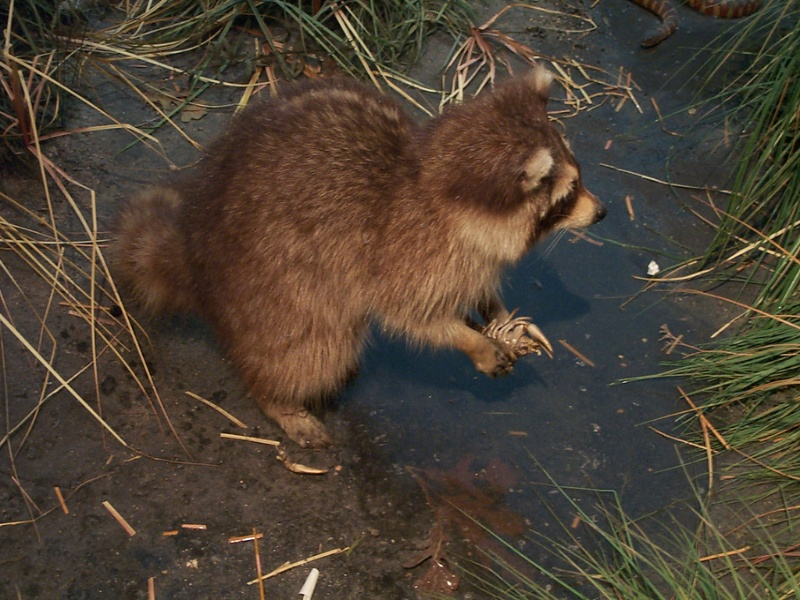raccoon: (108, 62, 612, 462)
